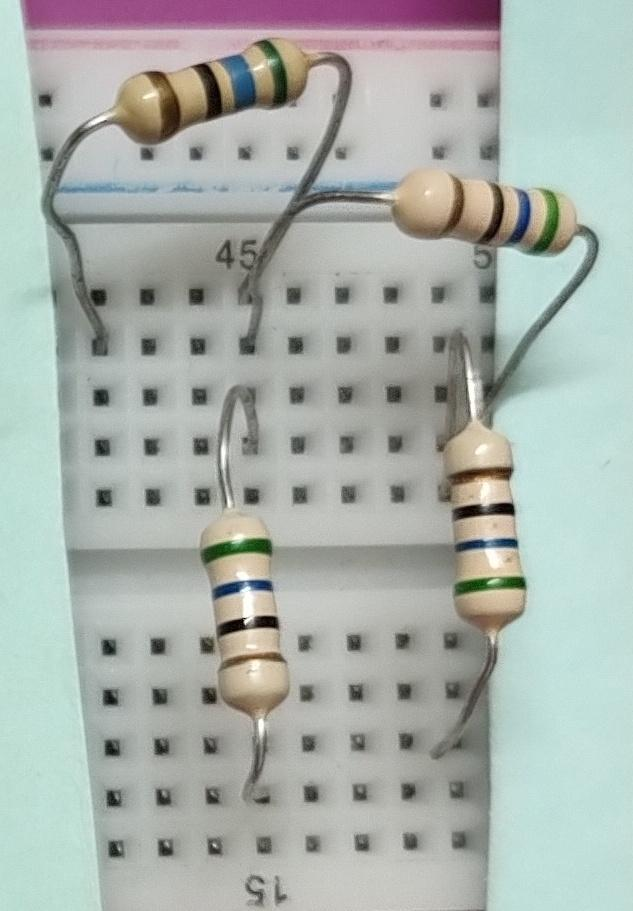resistor: (182, 497, 312, 718), (392, 145, 585, 280), (105, 40, 318, 148), (440, 418, 530, 645)
